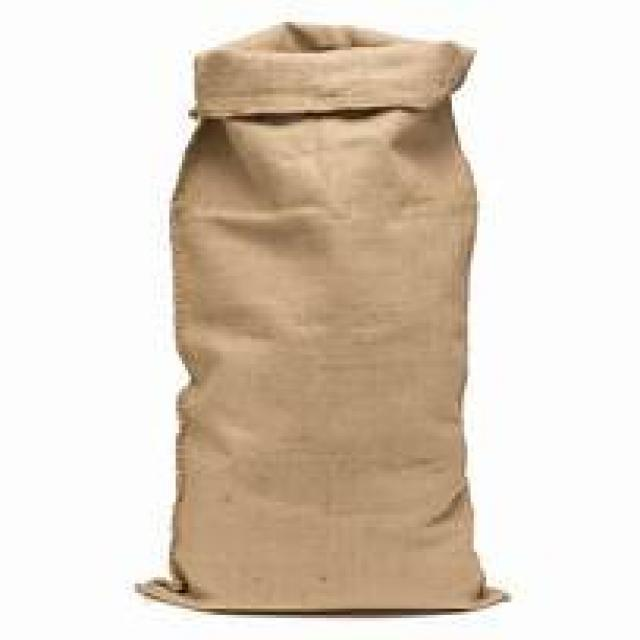gunny_bag: (133, 19, 521, 620)
